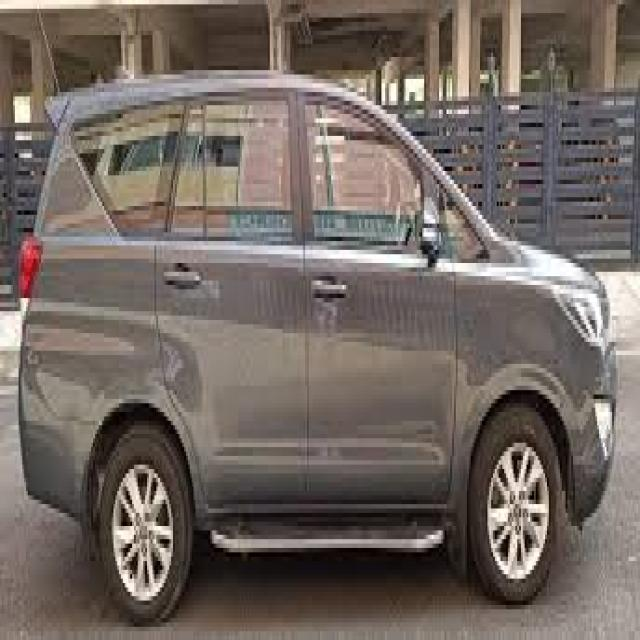light_vehicle: (19, 69, 617, 631)
